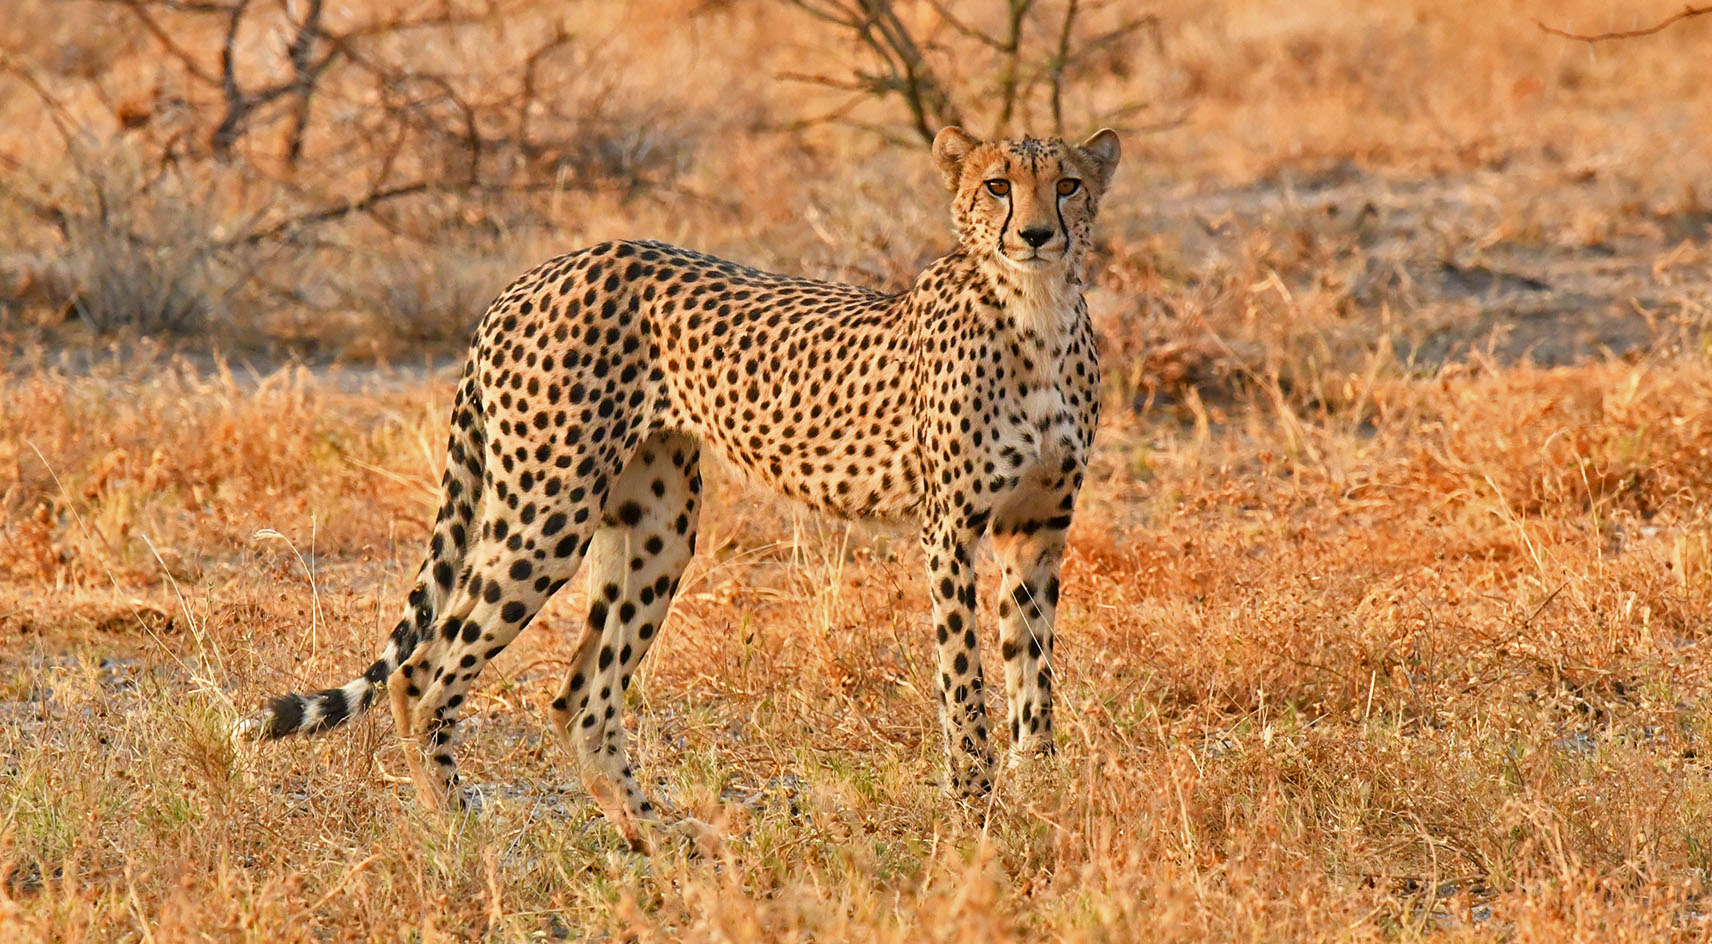cheetah: (926, 110, 1142, 277)
